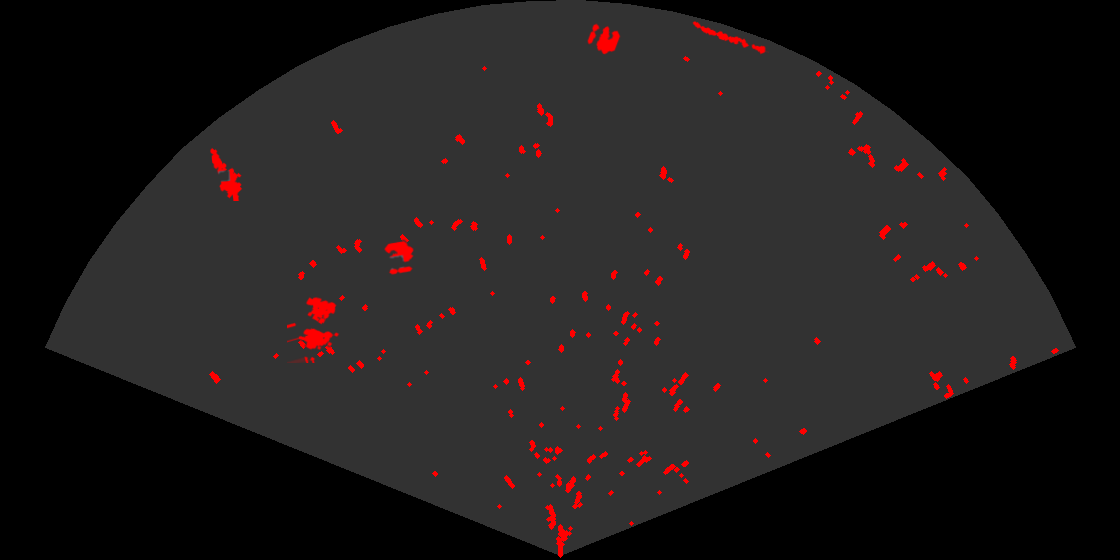ball: (586, 22, 622, 56), (383, 239, 415, 276)
cage: (287, 295, 341, 363)
chain: (691, 20, 769, 56)
frogman: (209, 146, 244, 201)
